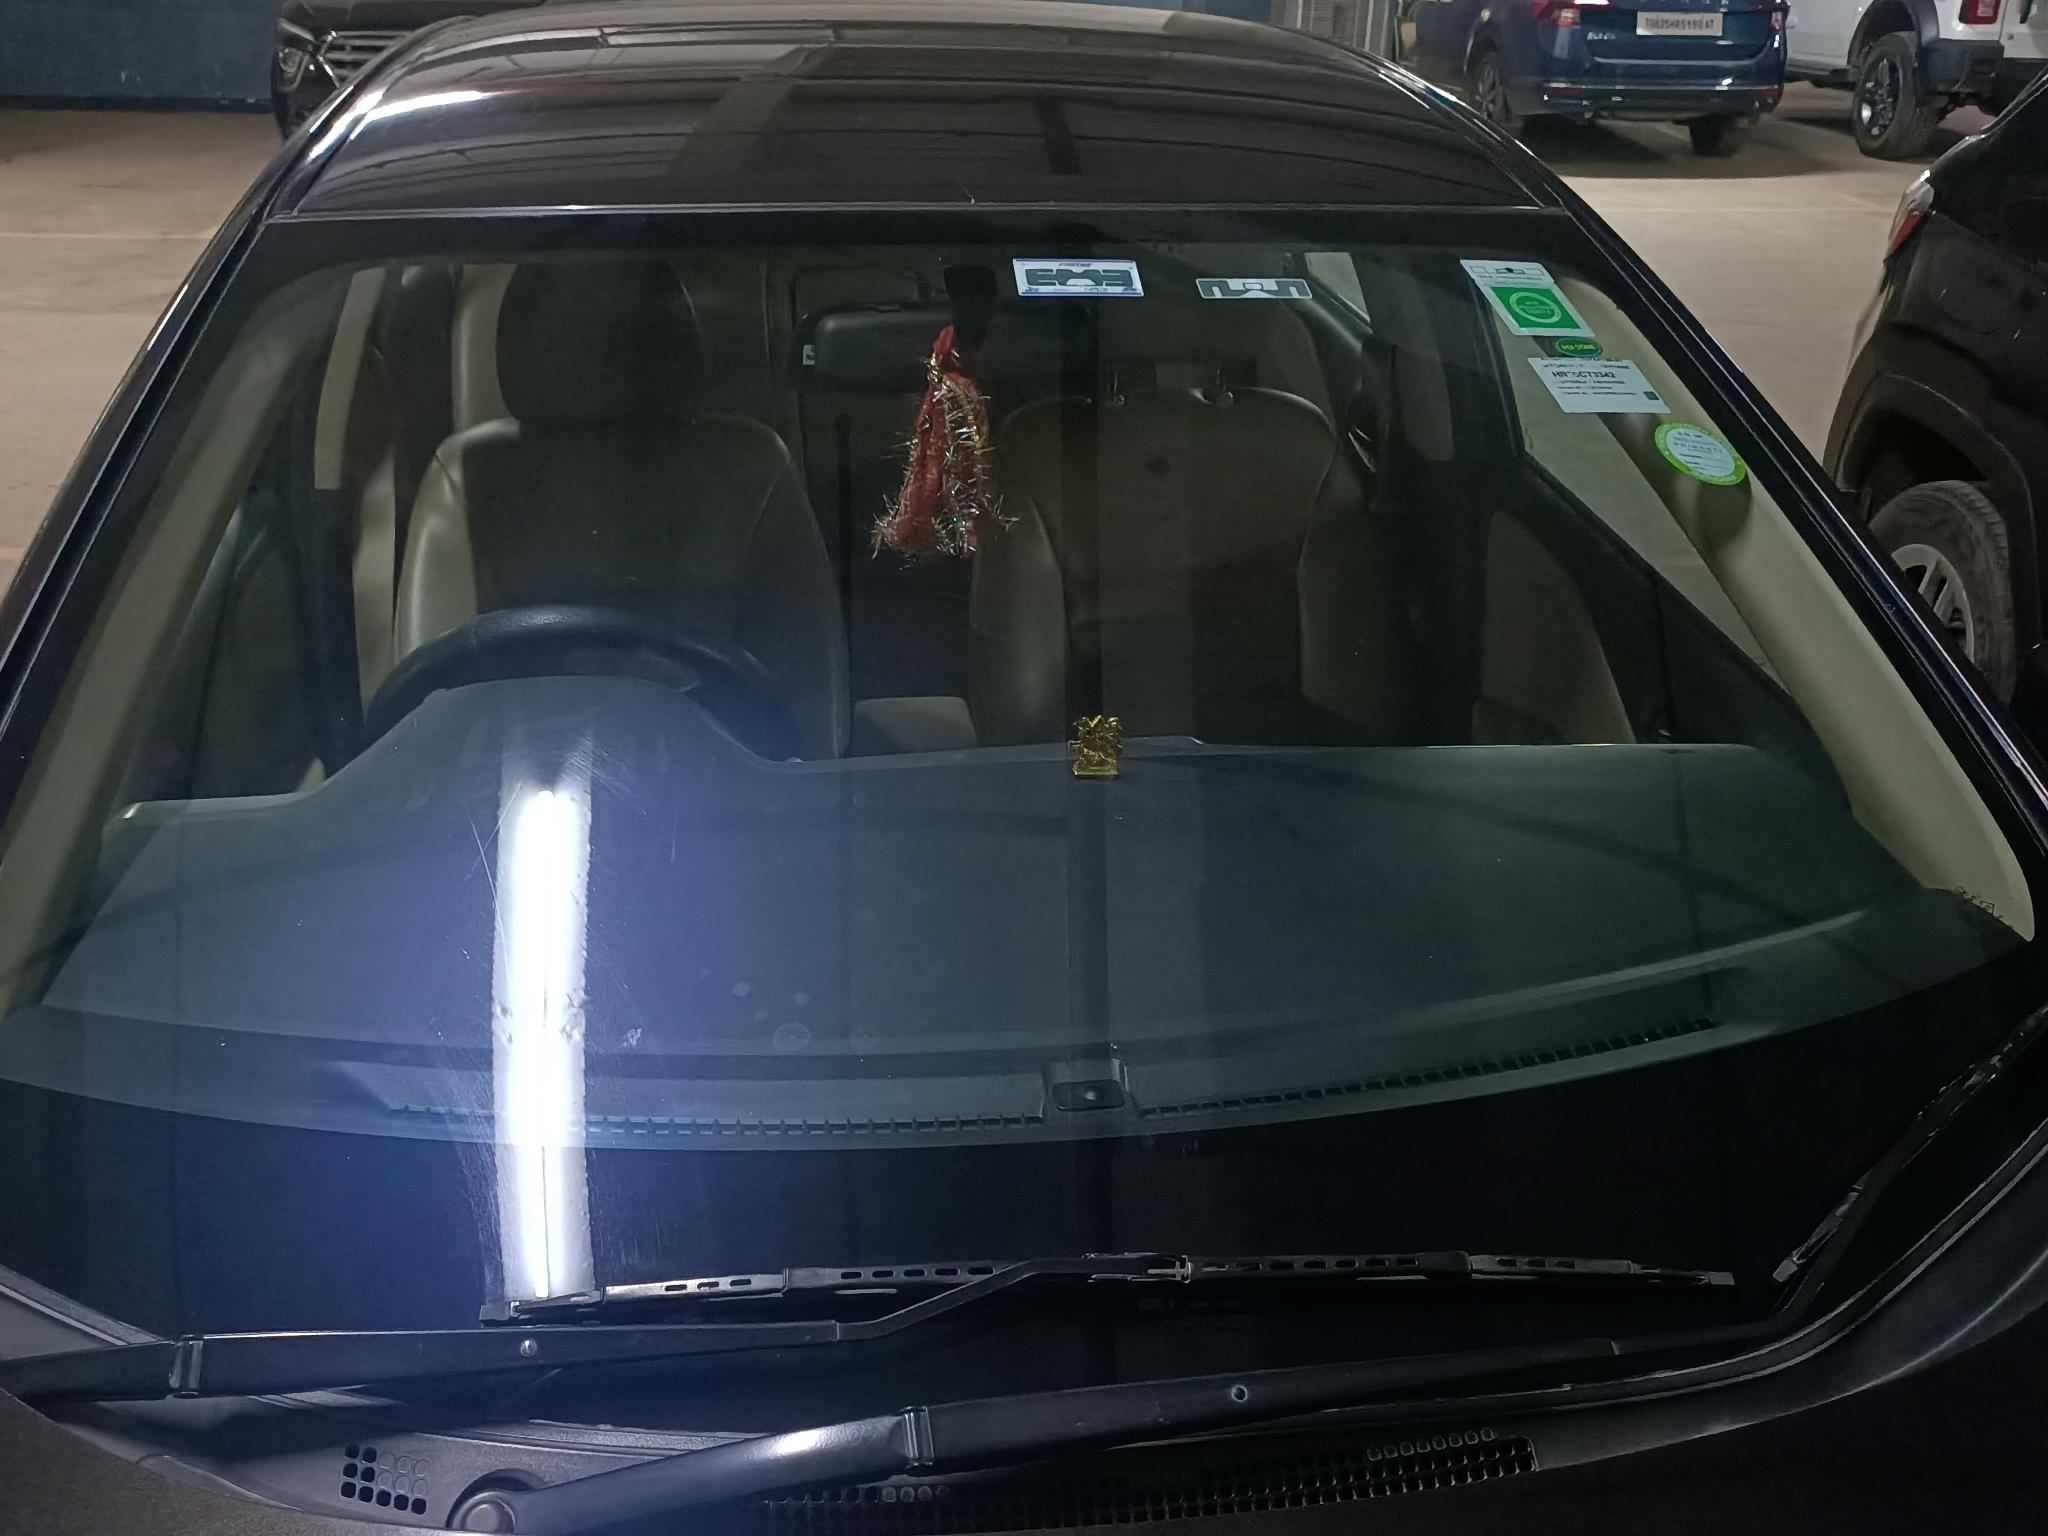FastTag: (994, 242, 1168, 322)
not a FastTag: (1436, 243, 1600, 341), (1524, 346, 1682, 416), (1188, 253, 1322, 321), (1656, 420, 1756, 494)
